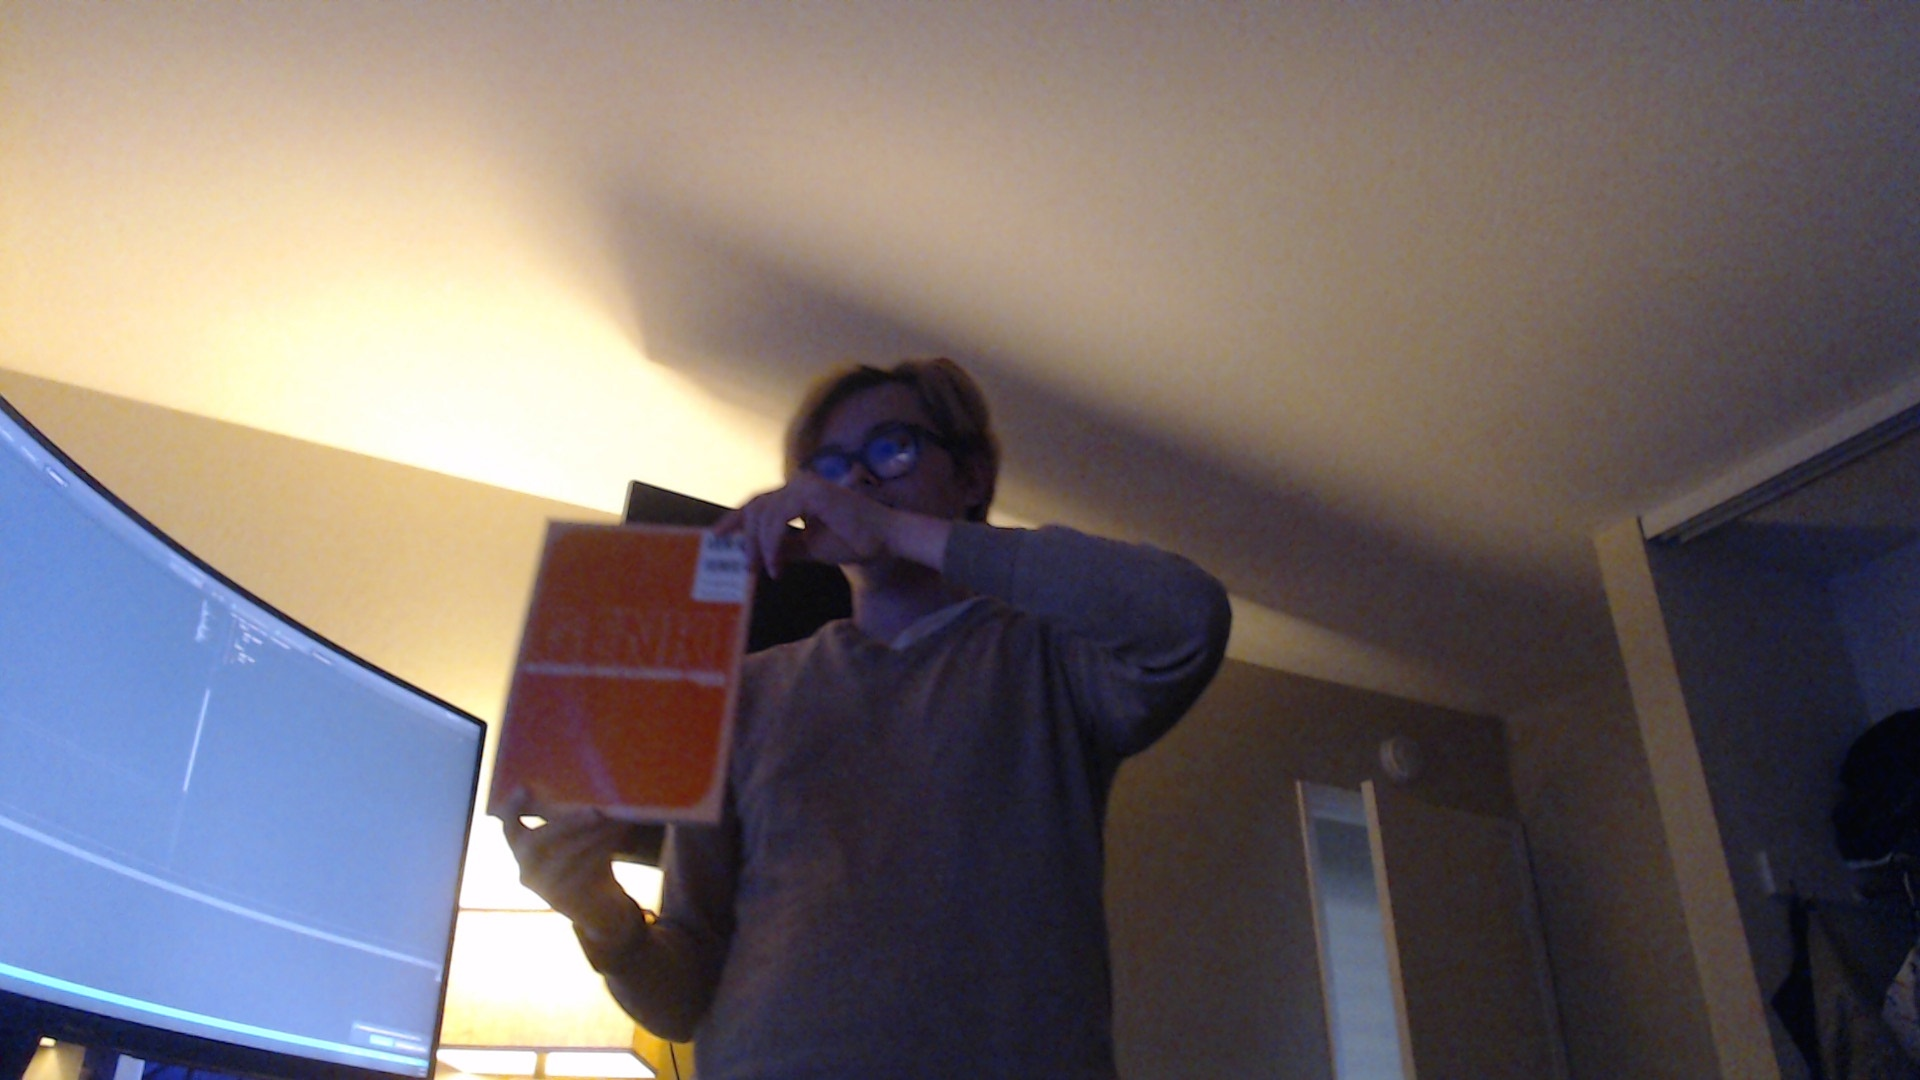book: (488, 514, 757, 835)
